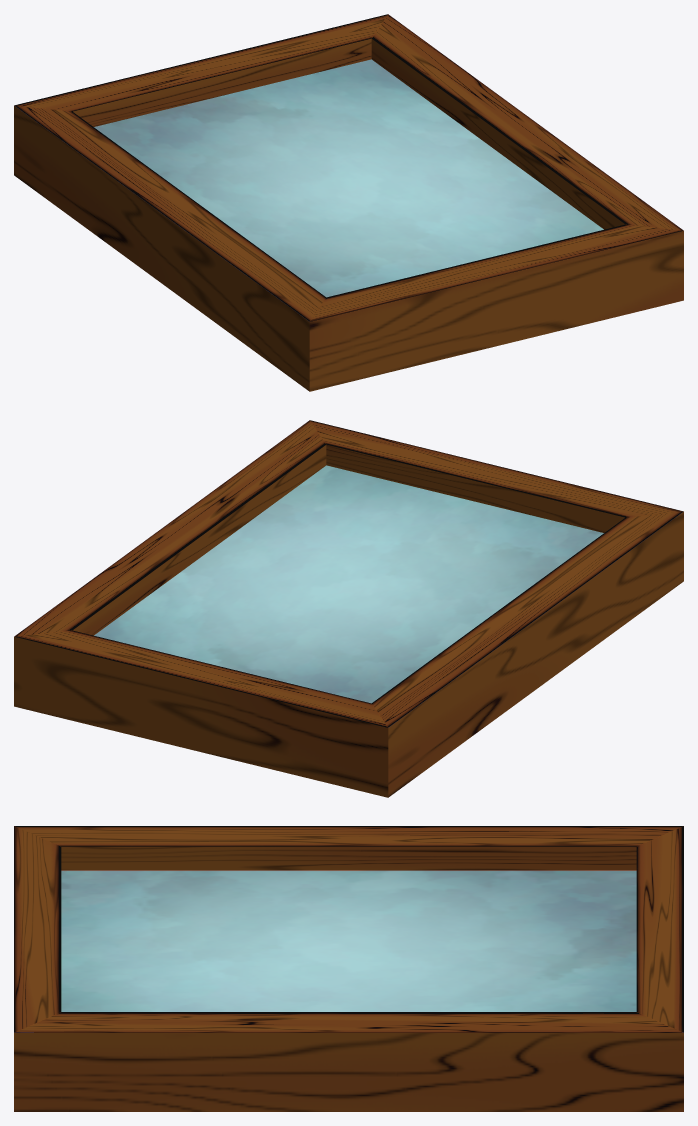
The model's file is MTile_19.fbx.
3 renders of one model, top to bottom at view 1: azimuth 30°, elevation 25°; view 2: azimuth 150°, elevation 25°; view 3: azimuth 270°, elevation 25°, orthographic. The views are drawn at different scales.
Parts seen in each view (by area): view 1: MTile_19; view 2: MTile_19; view 3: MTile_19.
Boxes of the visible parts, left/top/right/bottom form: MTile_19: left=14, top=14, right=683, bottom=391; MTile_19: left=14, top=420, right=683, bottom=797; MTile_19: left=14, top=826, right=683, bottom=1111.
Bounding box in the file's own units: 106 × 18.94 × 145.
